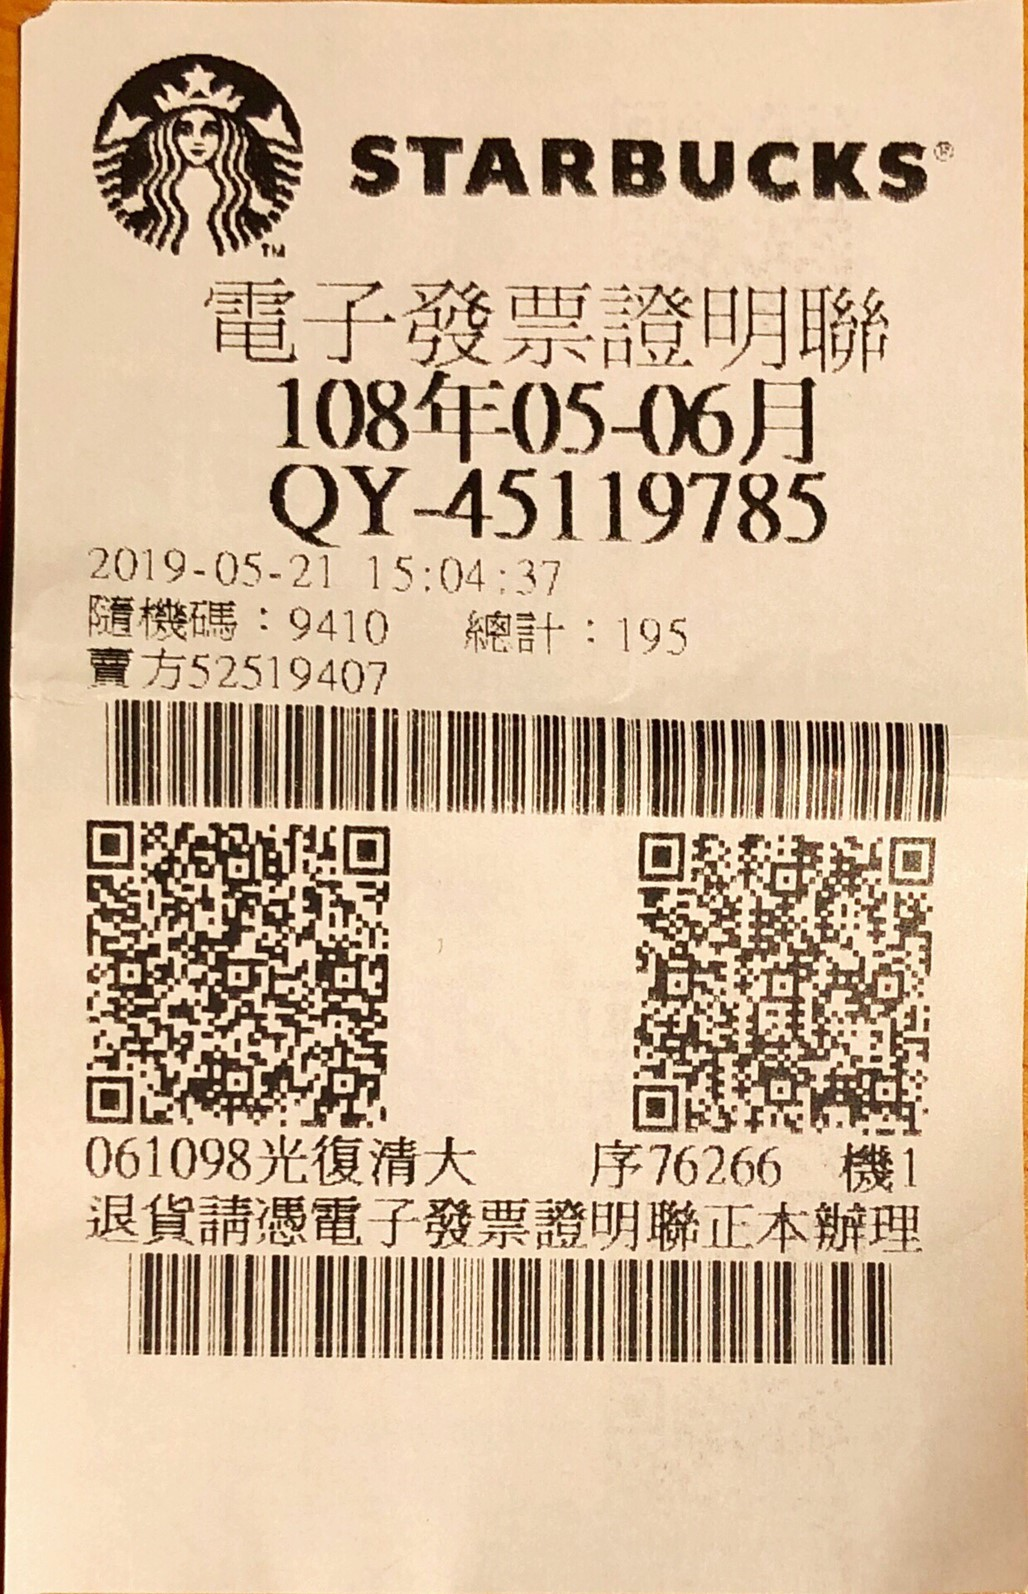Date_New: (273, 369, 817, 464)
Number_New: (443, 464, 835, 552)
